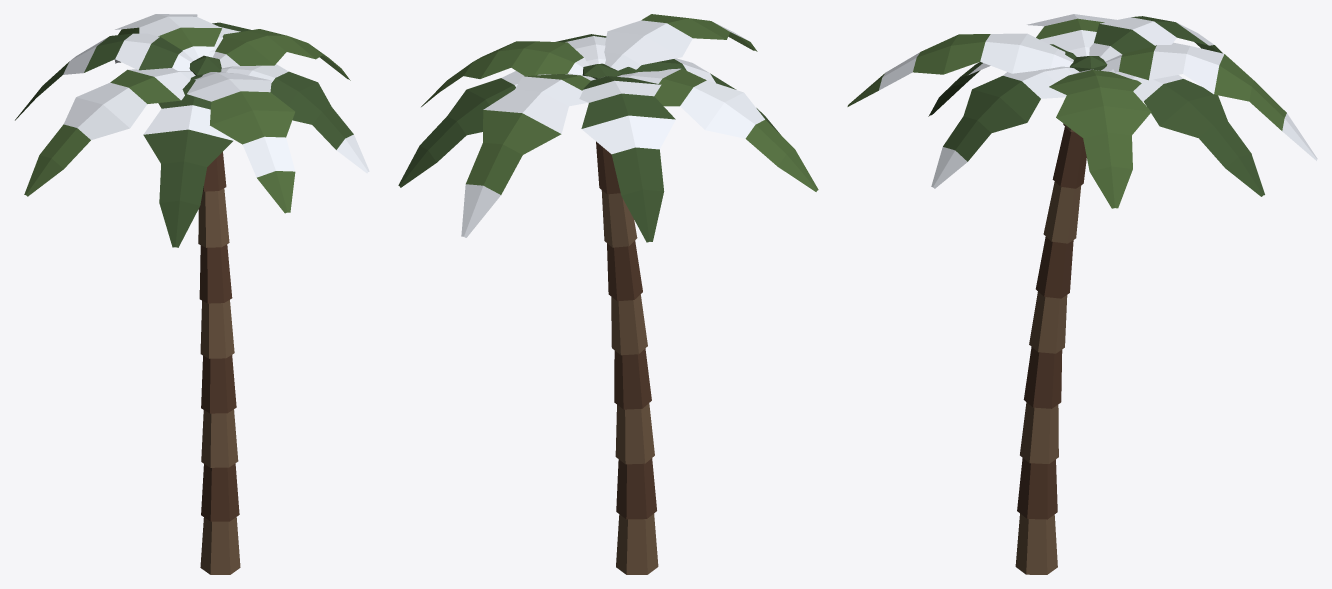
Rendered from palm-2.glb.
3 views of the same model, side by side, from view 1: azimuth 30°, elevation 25°; view 2: azimuth 150°, elevation 25°; view 3: azimuth 270°, elevation 25° (orthographic). The views are drawn at different scales.
Parts seen in each view (by area): view 1: palm-2; view 2: palm-2; view 3: palm-2.
Boxes of the visible parts, box(x1,y1,x2,y2) form: palm-2: box(15, 14, 369, 574); palm-2: box(398, 14, 818, 574); palm-2: box(847, 14, 1317, 574).
Bounding box in the file's own units: 5.4 × 7.36 × 5.97.
